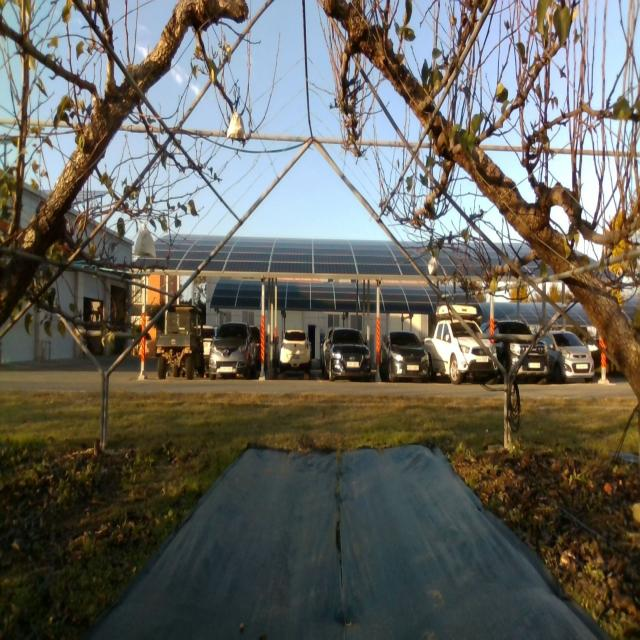pearbags: (134, 229, 156, 258), (227, 113, 245, 140)
